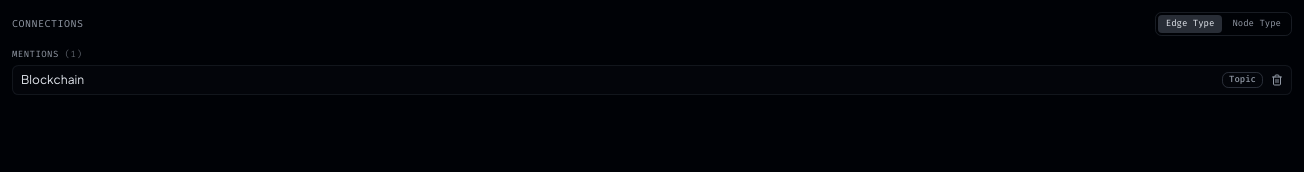
ConnectionsSection – admin delete › clicking trash shows inline confirmation
Click the button named "Remove connection".
click(1277, 80)  # box [1271,74,1283,86]
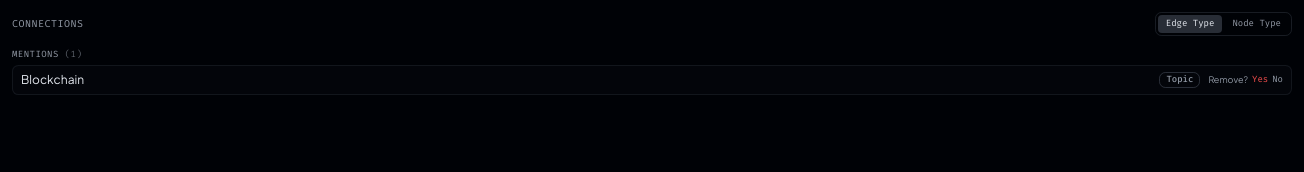
Result: the text "Remove?" is shown at [1208,73,1248,87]
Result: the button with aria-label "Confirm remove" is shown at [1252,73,1268,87]
Result: the button with aria-label "Cancel remove" is shown at [1272,73,1283,87]
